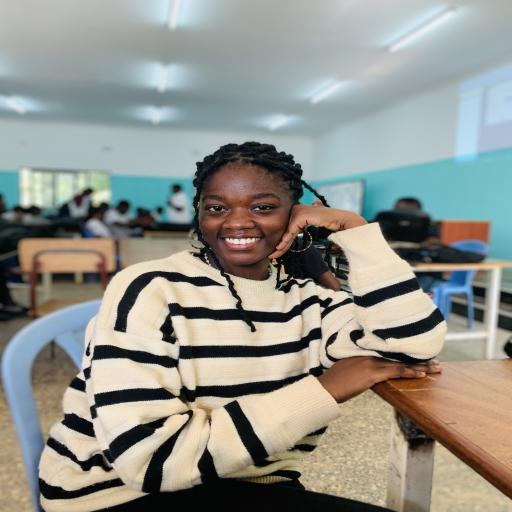LAURENE: (181, 135, 299, 275)
